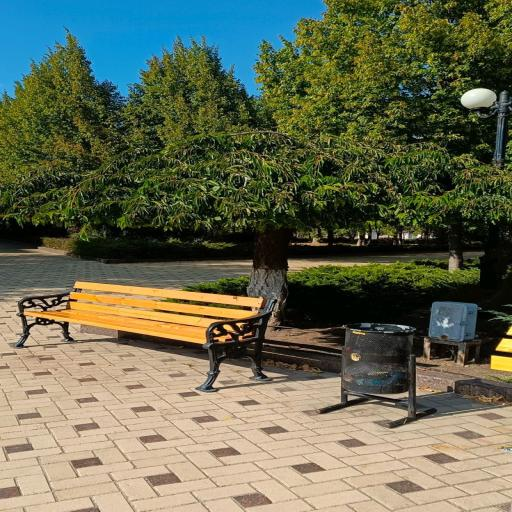ramp: (320, 321, 442, 430)
trash_bin: (12, 281, 275, 392)
